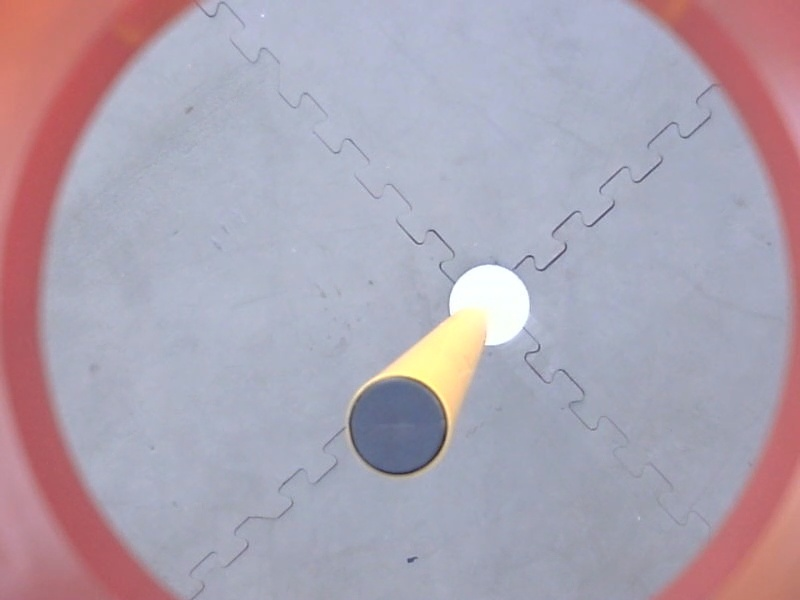tip: (341, 370, 457, 484)
